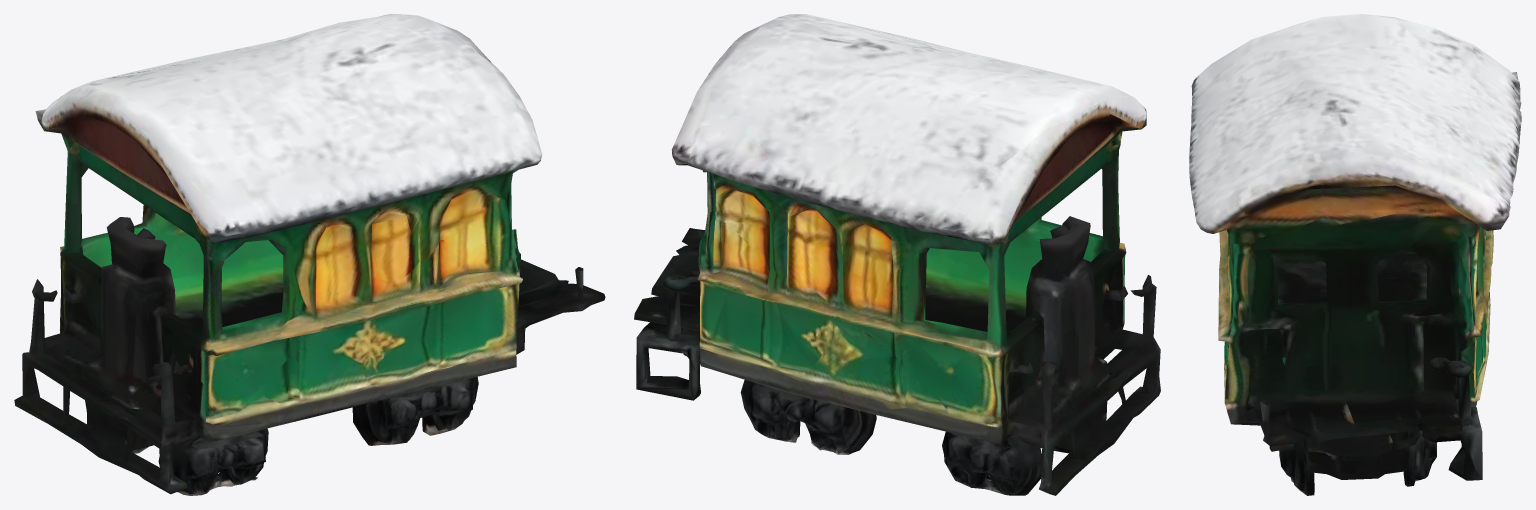
Rendered from dio_coach_green.glb.
3 renders of one model, left to right at view 1: azimuth 30°, elevation 25°; view 2: azimuth 150°, elevation 25°; view 3: azimuth 270°, elevation 25°, orthographic. The views are drawn at different scales.
Visible parts, largest first — view 1: tripo_part_1, tripo_part_18, tripo_part_9; view 2: tripo_part_1, tripo_part_10, tripo_part_26, tripo_part_27; view 3: tripo_part_1, tripo_part_27, tripo_part_18, tripo_part_10.
Boxes of the visible parts, x1,y1,x2,y2 form: tripo_part_1: [14, 14, 605, 494]; tripo_part_18: [352, 376, 478, 445]; tripo_part_9: [158, 428, 268, 495]; tripo_part_1: [634, 14, 1160, 495]; tripo_part_10: [740, 380, 876, 454]; tripo_part_26: [942, 431, 1041, 495]; tripo_part_27: [636, 271, 700, 400]; tripo_part_1: [1189, 14, 1521, 479]; tripo_part_27: [1417, 357, 1482, 480]; tripo_part_18: [1279, 440, 1314, 495]; tripo_part_10: [1403, 430, 1436, 486].
Size of the model in its own units: 0.2443 by 0.1845 by 0.1586.
Materials: 6 (6 with a texture image).
